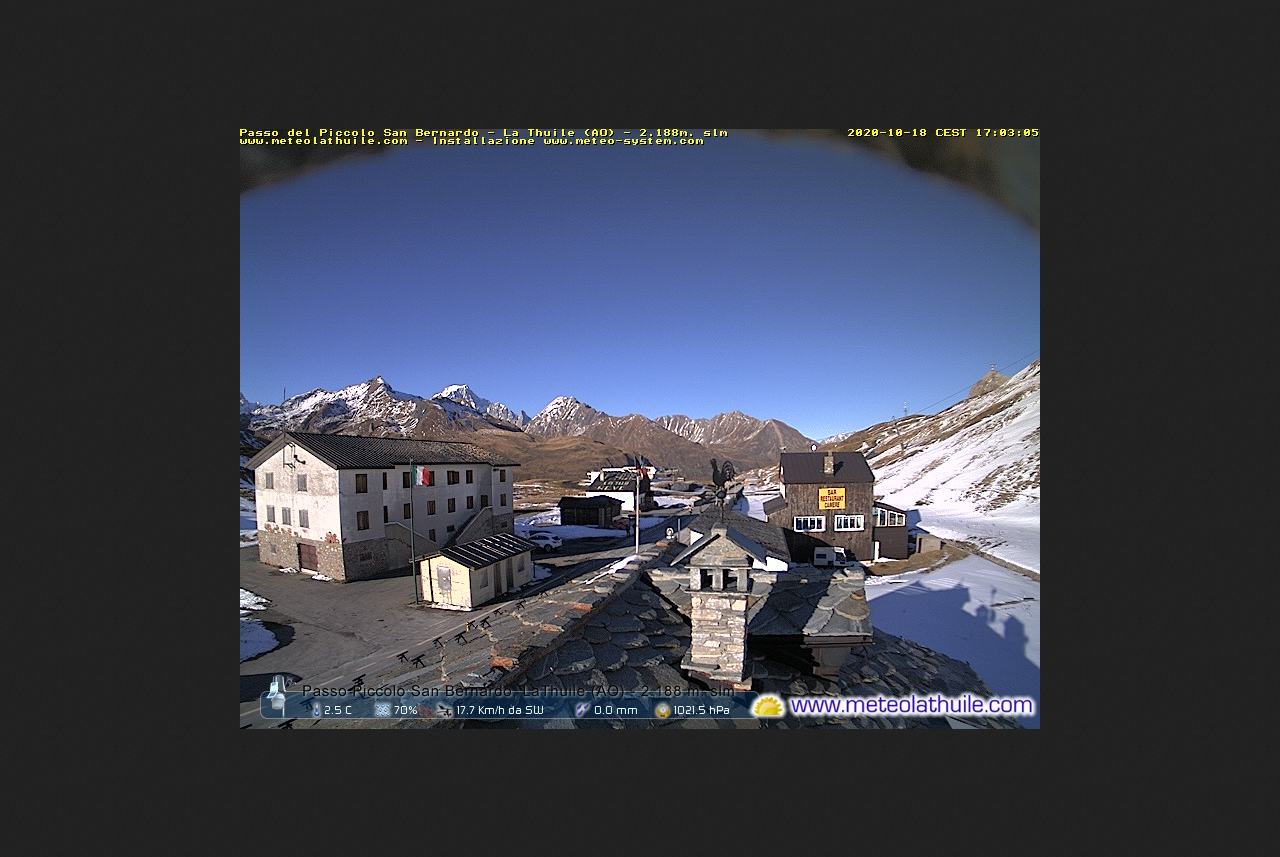yes: (407, 454, 429, 490)
